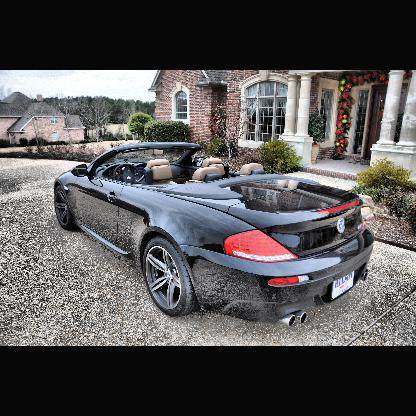BMW M6 Convertible 2010: (54, 143, 375, 328)
